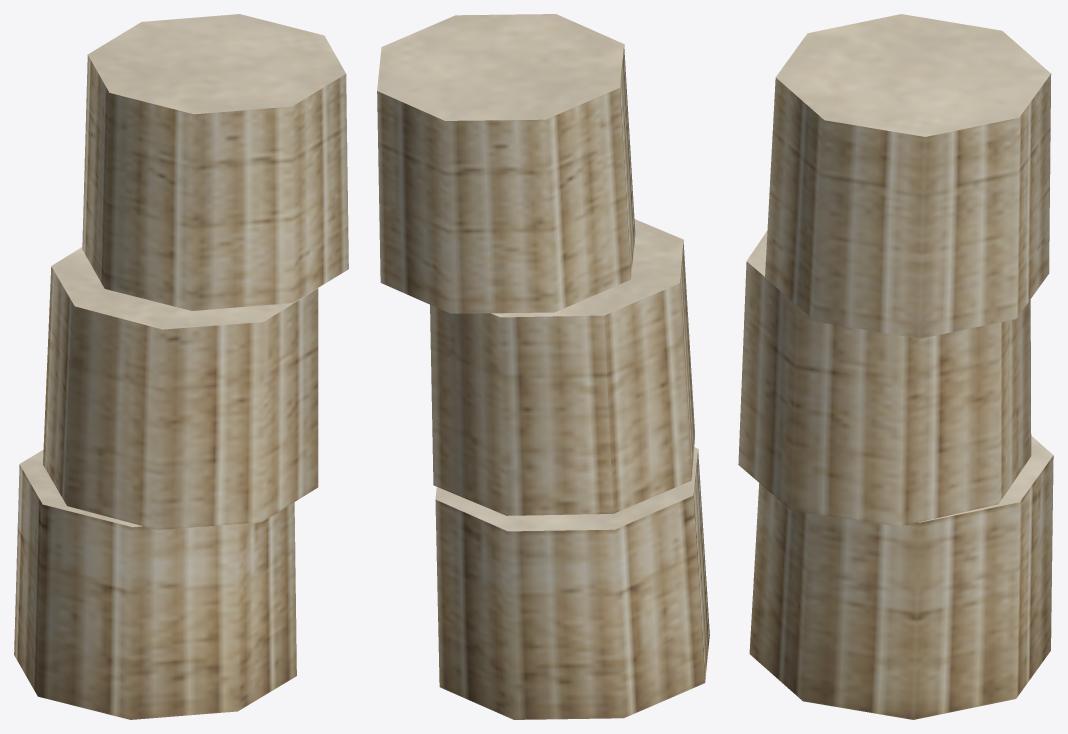
File: column_fallen_d.dae
The picture shows the model from 3 angles, left to right: view 1: azimuth 30°, elevation 25°; view 2: azimuth 150°, elevation 25°; view 3: azimuth 270°, elevation 25°; orthographic projection. The views are drawn at different scales.
Visible parts, largest first — view 1: column_fallen_d; view 2: column_fallen_d; view 3: column_fallen_d.
Boxes of the visible parts, left/top/right/bottom form: column_fallen_d: left=14, top=14, right=348, bottom=719; column_fallen_d: left=377, top=14, right=709, bottom=719; column_fallen_d: left=738, top=14, right=1053, bottom=719.
Bounding box in the file's own units: 2.37 × 2.01 × 4.38.
